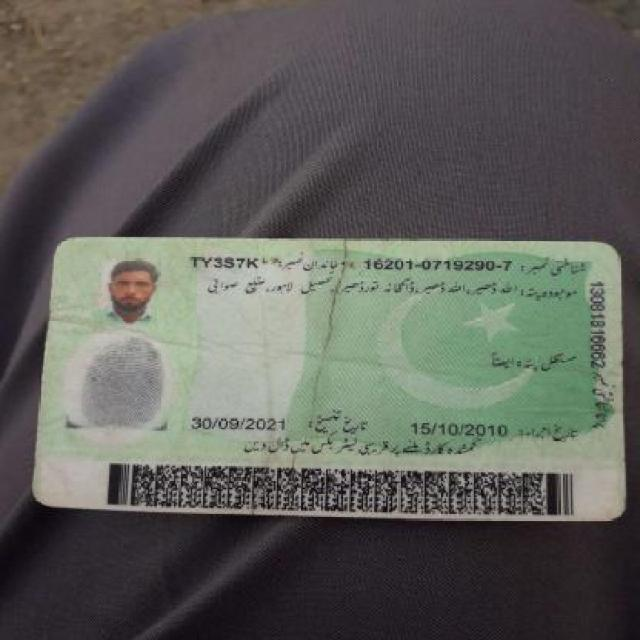Back: (34, 227, 635, 536)
